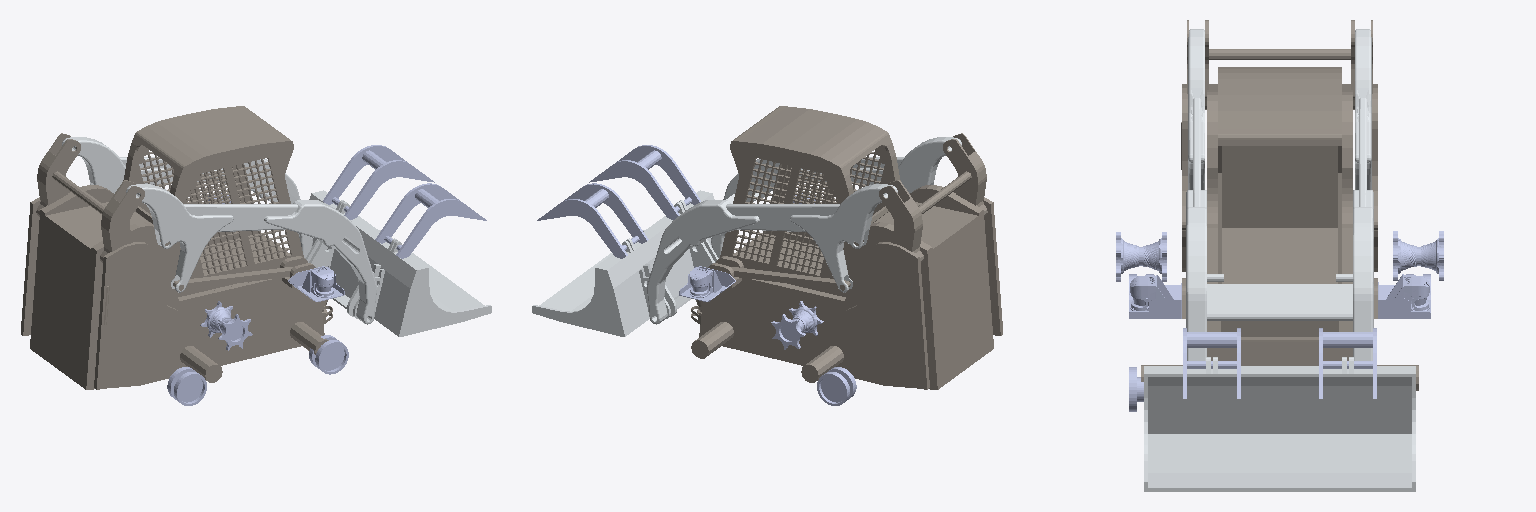
--- What the picture shows (computed from the rendered views, not written in the file) ---
The picture shows the robot from 3 angles, left to right: view 1: azimuth 30°, elevation 25°; view 2: azimuth 150°, elevation 25°; view 3: azimuth 270°, elevation 25°; orthographic projection.
Model Sahar with 18 links and 17 joints (5 revolute, 6 continuous, 6 fixed), rooted at body, posed every joint at zero.
Links seen in each view (by area): view 1: body, cabin, main_arm, loader, brackets, base_arm, right_sick_link, right_wheel, back_right_boggie, supporter, front_right_boggie; view 2: body, cabin, main_arm, loader, brackets, base_arm, left_sick_link, left_wheel, back_left_boggie, supporter; view 3: loader, body, main_arm, cabin, brackets, base_arm, left_sick_link, right_sick_link, right_wheel, left_wheel.
Link boxes in pixels (x1=…): body: x1=21, y1=185, x2=328, y2=389; cabin: x1=123, y1=106, x2=303, y2=297; main_arm: x1=62, y1=137, x2=376, y2=324; loader: x1=305, y1=190, x2=491, y2=336; brackets: x1=323, y1=145, x2=486, y2=258; base_arm: x1=36, y1=133, x2=144, y2=262; right_sick_link: x1=288, y1=266, x2=344, y2=301; right_wheel: x1=200, y1=301, x2=252, y2=350; back_right_boggie: x1=167, y1=367, x2=206, y2=405; supporter: x1=173, y1=267, x2=292, y2=290; front_right_boggie: x1=309, y1=335, x2=348, y2=374; body: x1=691, y1=185, x2=1002, y2=389; cabin: x1=720, y1=106, x2=900, y2=297; main_arm: x1=647, y1=137, x2=961, y2=324; loader: x1=532, y1=190, x2=718, y2=336; brackets: x1=537, y1=145, x2=700, y2=258; base_arm: x1=879, y1=133, x2=987, y2=262; left_sick_link: x1=679, y1=266, x2=735, y2=301; left_wheel: x1=771, y1=301, x2=823, y2=349; back_left_boggie: x1=817, y1=367, x2=856, y2=405; supporter: x1=731, y1=267, x2=850, y2=290; loader: x1=1144, y1=357, x2=1415, y2=491; body: x1=1141, y1=84, x2=1418, y2=390; main_arm: x1=1186, y1=29, x2=1373, y2=360; cabin: x1=1218, y1=67, x2=1341, y2=283; brackets: x1=1183, y1=328, x2=1376, y2=398; base_arm: x1=1187, y1=20, x2=1372, y2=109; left_sick_link: x1=1378, y1=274, x2=1430, y2=318; right_sick_link: x1=1129, y1=275, x2=1181, y2=318; right_wheel: x1=1116, y1=232, x2=1166, y2=281; left_wheel: x1=1393, y1=231, x2=1443, y2=280.
Bounding box of the posed robot: 3.57 × 2 × 1.87 m (x, y, z).
16 mesh visuals loaded from 18 distinct referenced files (16 binary STL); not drawn: 2 (reference not matched to a file when rendering).

The robot description file, URDF, robot "Sahar":
<?xml version="1.0"?>
<robot
  name="Sahar">
  <link
    name="body">
    <inertial>
      <origin
        xyz="-0.890714078986241 0.000176354230843794 0.525609535873677"
        rpy="0 0 0" />
      <mass
        value="2112.2632057713" />
      <inertia
        ixx="330.451427275626"
        ixy="0.1258707518716585"
        ixz="-85.8115001993615"
        iyy="750.047261721269"
        iyz="-0.001202697501709275"
        izz="817.534535636717" />
    </inertial>
    <visual>
      <origin
        xyz="0 0 0"
        rpy="0 0 0" />
      <geometry>
        <mesh
          filename="package://bobcat/meshes/body.STL" />
      </geometry>
      <material
        name="">
        <color
          rgba="0.647058823529412 0.619607843137255 0.588235294117647 0.5" />
      </material>
    </visual>
    <collision>
      <origin
        xyz="0 0 0"
        rpy="0 0 0" />
      <geometry>
        <mesh
          filename="package://bobcat/meshes/body.STL" />
      </geometry>
    </collision>
  </link>

  <link
    name="base_arm">
    <inertial>
      <origin
        xyz="0.066509 1.9771E-12 0.25686"
        rpy="0 0 0" />
      <mass
        value="194.91" />
      <inertia
        ixx="50.76"
        ixy="-2.9264E-11"
        ixz="0.66798"
        iyy="4.8017"
        iyz="7.0403E-12"
        izz="47.388" />
    </inertial>
    <visual>
      <origin
        xyz="0 0 0"
        rpy="0 0 0" />
      <geometry>
        <mesh
          filename="package://bobcat/meshes/base_arm.STL" />
      </geometry>
      <material
        name="">
        <color
          rgba="0.64706 0.61961 0.58824 1" />
      </material>
    </visual>
    <collision>
      <origin
        xyz="0 0 0"
        rpy="0 0 0" />
      <geometry>
        <mesh
          filename="package://bobcat/meshes/base_arm.STL" />
      </geometry>
    </collision>
  </link>
  <joint
    name="base_arm_joint"
    type="revolute">
    <origin
      xyz="-1.9776 0 1.1773"
      rpy="0 2.1164E-16 0" />
    <parent
      link="body" />
    <child
      link="base_arm" />
    <axis
      xyz="0 1 0" />
    <limit
      lower="-1.57"
      upper="1.57"
      effort="1000000"
      velocity="100" />
  </joint>
  <link
    name="main_arm">
    <inertial>
      <origin
        xyz="1.1865 -4.0206E-07 -0.60466"
        rpy="0 0 0" />
      <mass
        value="369.05" />
      <inertia
        ixx="133.74"
        ixy="0.00012791"
        ixz="-68.753"
        iyy="216.24"
        iyz="-4.6593E-05"
        izz="268.55" />
    </inertial>
    <visual>
      <origin
        xyz="0 0 0"
        rpy="0 0 0" />
      <geometry>
        <mesh
          filename="package://bobcat/meshes/main_arm.STL" />
      </geometry>
      <material
        name="">
        <color
          rgba="0.89412 0.91373 0.92941 1" />
      </material>
    </visual>
    <collision>
      <origin
        xyz="0 0 0"
        rpy="0 0 0" />
      <geometry>
        <mesh
          filename="package://bobcat/meshes/main_arm.STL" />
      </geometry>
    </collision>
  </link>
  <joint
    name="main_arm_joint"
    type="revolute">
    <origin
      xyz="0.22304 0 0.5262"
      rpy="0 -2.1164E-16 0" />
    <parent
      link="base_arm" />
    <child
      link="main_arm" />
    <axis
      xyz="0 1 0" />
    <limit
      lower="-1.57"
      upper="1.57"
      effort="1000000"
      velocity="100" />
  </joint>
  <link
    name="supporter">
    <inertial>
      <origin
        xyz="0.51341 -4.9085E-16 -0.060486"
        rpy="0 0 0" />
      <mass
        value="65.29" />
      <inertia
        ixx="16.898"
        ixy="-2.3004E-13"
        ixz="-0.76501"
        iyy="6.6127"
        iyz="-2.4072E-13"
        izz="23.301" />
    </inertial>
    <visual>
      <origin
        xyz="0 0 0"
        rpy="0 0 0" />
      <geometry>
        <mesh
          filename="package://bobcat/meshes/supporter.STL" />
      </geometry>
      <material
        name="">
        <color
          rgba="0.64706 0.61961 0.58824 1" />
      </material>
    </visual>
    <collision>
      <origin
        xyz="0 0 0"
        rpy="0 0 0" />
      <geometry>
        <mesh
          filename="package://bobcat/meshes/supporter.STL" />
      </geometry>
    </collision>
  </link>
  <joint
    name="supporter_joint"
    type="revolute">
    <origin
      xyz="0.39771 0 -0.89486"
      rpy="0 8.0491E-16 0" />
    <parent
      link="main_arm" />
    <child
      link="supporter" />
    <axis
      xyz="0 1 0" />
    <limit
      lower="-0.2"
      upper="1.5"
      effort="1000000"
      velocity="100" />
  </joint>

  <link
    name="loader">
    <inertial>
      <origin
        xyz="0.37894 2.192E-15 0.067409"
        rpy="0 0 0" />
      <mass
        value="98.03" />
      <inertia
        ixx="29.346"
        ixy="0"
        ixz="-1.55"
        iyy="9.25"
        iyz="0"
        izz="32.05" />
    </inertial>
    <visual>
      <origin
        xyz="0 0 0"
        rpy="0 0 0" />
      <geometry>
        <mesh
          filename="package://bobcat/meshes/loader.STL" />
      </geometry>
      <material
        name="">
        <color
          rgba="0.89412 0.91373 0.92941 1" />
      </material>
    </visual>
    <collision>
      <origin
        xyz="0 0 0"
        rpy="0 0 0" />
      <geometry>
        <mesh
          filename="package://bobcat/meshes/loader.STL" />
      </geometry>
    </collision>
  </link>
  <joint
    name="loader_joint"
    type="revolute">
    <origin
      xyz="2.0984 0 -1.557"
      rpy="0 2.5362E-15 0" />
    <parent
      link="main_arm" />
    <child
      link="loader" />
    <axis
      xyz="0 1 0" />
    <limit
      lower="0"
      upper="1.57"
      effort="1000000"
      velocity="100" />
  </joint>
  <link
    name="brackets">
    <inertial>
      <origin
        xyz="0.14213 -1.579E-16 0.33109"
        rpy="0 0 0" />
      <mass
        value="12.857" />
      <inertia
        ixx="2.9339"
        ixy="-2.9653E-16"
        ixz="0.23718"
        iyy="0.67251"
        iyz="3.0656E-16"
        izz="2.738" />
    </inertial>
    <visual>
      <origin
        xyz="0 0 0"
        rpy="0 0 0" />
      <geometry>
        <mesh
          filename="package://bobcat/meshes/brackets.STL" />
      </geometry>
      <material
        name="">
        <color
          rgba="0.79216 0.81961 0.93333 1" />
      </material>
    </visual>
    <collision>
      <origin
        xyz="0 0 0"
        rpy="0 0 0" />
      <geometry>
        <mesh
          filename="package://bobcat/meshes/brackets.STL" />
      </geometry>
    </collision>
  </link>
  <joint
    name="brackets_joint"
    type="revolute">
    <origin
      xyz="0.33833 0 0.49449"
      rpy="0 0 0" />
    <parent
      link="loader" />
    <child
      link="brackets" />
    <axis
      xyz="0 1 0" />
    <limit
      lower="0"
      upper="1"
      effort="1000000"
      velocity="1000000" />
  </joint>

<link
    name="cabin">
    <inertial>
      <origin
        xyz="-0.70338 -5.738E-08 0.72817"
        rpy="0 0 0" />
      <mass
        value="496.33" />
      <inertia
        ixx="138.34"
        ixy="-1.1017E-06"
        ixz="8.4609"
        iyy="150.8"
        iyz="-2.3341E-06"
        izz="117.01" />
    </inertial>
    <visual>
      <origin
        xyz="0 0 0"
        rpy="0 0 0" />
      <geometry>
        <mesh
          filename="package://bobcat/meshes/cabin.STL" />
      </geometry>
      <material
        name="">
        <color
          rgba="0.64706 0.61961 0.58824 1" />
      </material>
    </visual>
    <collision>
      <origin
        xyz="0 0 0"
        rpy="0 0 0" />
      <geometry>
        <mesh
          filename="package://bobcat/meshes/cabin.STL" />
      </geometry>
    </collision>
  </link>
  <joint
    name="cabin_joint"
    type="fixed">
    <origin
      xyz="-0.11317 0 0.61042"
      rpy="0 8.0491E-16 0" />
    <parent
      link="body" />
    <child
      link="cabin" />
    <axis
      xyz="0 1 0" />
  </joint>
  <link
    name="Ibeo_link">
    <inertial>
      <origin
        xyz="-0.50455 -0.03223 -1.3338"
        rpy="0 0 0" />
      <mass
        value="10.460" />
      <inertia
        ixx="8.1287"
        ixy="0"
        ixz="0.55289"
        iyy="8.9548"
        iyz="0"
        izz="6.4192" />
    </inertial>
    <visual>
      <origin
        xyz="0 0 0"
        rpy="0 0 0" />
      <geometry>
        <mesh
          filename="package://bobcat/meshes/Ibeo.STL" />
      </geometry>
      <material
        name="">
        <color
          rgba="1 1 1 1" />
      </material>
    </visual>
    <collision>
      <origin
        xyz="0 0 0"
        rpy="0 0 0" />
      <geometry>
        <mesh
          filename="package://bobcat/meshes/Ibeo_lite.stl" />
      </geometry>
    </collision>
  </link>
  <joint
    name="Ibeo_joint"
    type="fixed">
    <origin
      xyz="-0.18258 0.03227 1.2493"
      rpy="1.570796327 -5.9328E-16 1.570796327" />
    <parent
      link="cabin" />
    <child
      link="Ibeo_link" />
    <axis
      xyz="0 0 0" />
  </joint>
  <link
    name="left_sick_link">
    <inertial>
      <origin
        xyz="-0.89565 0.58058 -0.24712"
        rpy="0 0 0" />
      <mass
        value="10.642" />
      <inertia
        ixx="5.5107"
        ixy="-0.00022597"
        ixz="0.000019765"
        iyy="4.5364"
        iyz="0.67063"
        izz="6.5674" />
    </inertial>
    <visual>
      <origin
        xyz="0 0 0"
        rpy="0 0 0" />
      <geometry>
        <mesh
          filename="package://bobcat/meshes/left_sick.STL" />
      </geometry>
      <material
        name="">
        <color
          rgba="0.79216 0.81961 0.93333 1" />
      </material>
    </visual>
    <collision>
      <origin
        xyz="0 0 0"
        rpy="0 0 0" />
      <geometry>
        <mesh
          filename="package://bobcat/meshes/left_sick_lite.stl" />
      </geometry>
    </collision>
  </link>
  <joint
    name="left_sick_joint"
    type="fixed">
    <origin
      xyz="-0.21801 0.89557 0.66494"
      rpy="1.5708 0 1.5708" />
    <parent
      link="body" />
    <child
      link="left_sick_link" />
    <axis
      xyz="0 -1 0" />
  </joint>
  <link
    name="right_sick_link">
    <inertial>
      <origin
        xyz="-0.89568 -0.58119 -0.24712"
        rpy="0 0 0" />
      <mass
        value="10.642" />
      <inertia
        ixx="5.5107"
        ixy="-0.00022597"
        ixz="-0.000019765"
        iyy="4.5364"
        iyz="-0.67063"
        izz="6.5674" />
    </inertial>
    <visual>
      <origin
        xyz="0 0 0"
        rpy="0 0 0" />
      <geometry>
        <mesh
          filename="package://bobcat/meshes/right_sick.STL" />
      </geometry>
      <material
        name="">
        <color
          rgba="0.79216 0.81961 0.93333 1" />
      </material>
    </visual>
    <collision>
      <origin
        xyz="0 0 0"
        rpy="0 0 0" />
      <geometry>
        <mesh
          filename="package://bobcat/meshes/right_sick_lite.stl" />
      </geometry>
    </collision>
  </link>
  <joint
    name="right_sick_joint"
    type="fixed">
    <origin
      xyz="-0.2174 -0.89576 0.66494"
      rpy="1.5708 0 1.5708" />
    <parent
      link="body" />
    <child
      link="right_sick_link" />
    <axis
      xyz="0 -1 0" />
  </joint>
  <link
    name="front_sick_link">
    <inertial>
      <origin
        xyz="-0.89885 0.00019572 0.43638"
        rpy="0 0 0" />
      <mass
        value="4.5223" />
      <inertia
        ixx="0.77018"
        ixy="0.00031619"
        ixz="-0.20002"
        iyy="1.747"
        iyz="-0.0000281"
        izz="1.9059" />
    </inertial>
    <visual>
      <origin
        xyz="0 0 0"
        rpy="0 0 0" />
      <geometry>
        <mesh
          filename="package://bobcat/meshes/front_sick.STL" />
      </geometry>
      <material
        name="">
        <color
          rgba="0.64706 0.61961 0.58824 1" />
      </material>
    </visual>
    <collision>
      <origin
        xyz="0 0 0"
        rpy="0 0 0" />
      <geometry>
        <mesh
          filename="package://bobcat/meshes/front_sick_lite.stl" />
      </geometry>
    </collision>
  </link>
  <joint
    name="front_sick_joint"
    type="fixed">
    <origin
      xyz="0.26113 0 0.048493"
      rpy="1.5708 0 1.5708" />
    <parent
      link="body" />
    <child
      link="front_sick_link" />
    <axis
      xyz="0 1 0" />
  </joint>
  <link
    name="supporter_hinge">
    <inertial>
      <origin
        xyz="-6.2676E-16 -2.2204E-16 1.1102E-16"
        rpy="0 0 0" />
      <mass
        value="1.6828" />
      <inertia
        ixx="0.00017338"
        ixy="-6.163E-33"
        ixz="-1.9205E-35"
        iyy="0.42748"
        iyz="6.6217E-37"
        izz="0.42748" />
    </inertial>
    <visual>
      <origin
        xyz="0 0 0"
        rpy="0 0 0" />
      <geometry>
        <mesh
          filename="package://bobcat/meshes/supporter_hinge.STL" />
      </geometry>
      <material
        name="">
        <color
          rgba="0.64706 0.61961 0.58824 1" />
      </material>
    </visual>
    <collision>
      <origin
        xyz="0 0 0"
        rpy="0 0 0" />
      <geometry>
        <mesh
          filename="package://bobcat/meshes/supporter_hinge.STL" />
      </geometry>
    </collision>
  </link>
  <joint
    name="supporter_hinge_joint"
    type="fixed">
    <origin
      xyz="-0.31547 0 0.68593"
      rpy="1.5708 0 1.5708" />
    <parent
      link="body" />
    <child
      link="supporter_hinge" />
    <axis
      xyz="1 0 0" />
  </joint>


<!-- add by Or-->



<link
    name="right_wheel">
    <inertial>
      <origin
        xyz="-0.725 0 0"
        rpy="0 0 0" />
      <mass
        value="5.4973106115847" />
      <inertia
        ixx="0.0331571866222433"
        ixy="4.74591956306214E-11"
        ixz="-7.11777670092528E-12"
        iyy="0.0750084493873789"
        iyz="-3.13569619781006E-12"
        izz="0.0750084493853636" />
    </inertial>
    <visual>
      <origin
        xyz="0 0 0"
        rpy="0 0 0" />
      <geometry>
        <mesh
          filename="package://bobcat_gazebo/meshes_bobcat_with_boggies/right_wheel.STL" />
      </geometry>
      <material
        name="">
        <color
          rgba="0.792156862745098 0.819607843137255 0.933333333333333 1" />
      </material>
    </visual>


    <collision>
      <origin
        xyz="-0.15 0 0"
        rpy="1.5708 1.5708 0" />
      <geometry>
        <box size="0.15 0.3 0.15"/> 
         </geometry>
    </collision>

  <collision>
      <origin
        xyz="-0.15 0 0"
        rpy="0 0.8 1.5708" />
      <geometry>
        <box size="0.15 0.3 0.15"/> 
         </geometry>
    </collision>

    <collision>
      <origin
        xyz="0.091 0 0"
        rpy="0 1.5708 0" />
      <geometry>
        <cylinder length="0.1" radius="0.3" 

          />

      </geometry>
    </collision>

    <collision>
      <origin
        xyz="-0.35 0 0"
        rpy="0 1.5708 0" />
      <geometry>
        <cylinder length="0.02" radius="0.3" 
          />

      </geometry>
    </collision>

  </link>
  <joint
    name="right_wheel_joint"
    type="continuous">
    <origin
      xyz="-1.109 -1 0.535"
      rpy="1.5708 0 -1.5708" />
    <parent
      link="body" />
    <child
      link="right_wheel" />
    <axis
      xyz="-1 0 0" />

  </joint>
  


<!--  -->

<link
    name="front_right_boggie">
    <inertial>
      <origin
        xyz="-0.072989545637314 0 0"
        rpy="0 0 0" />
      <mass
        value="3.90657046473891" />
      <inertia
        ixx="0.0402750730112348"
        ixy="-1.95495404144972E-19"
        ixz="-3.8871286104849E-19"
        iyy="0.0265900500882693"
        iyz="6.78191046434944E-18"
        izz="0.0265900500882693" />
    </inertial>
    <visual>
      <origin
        xyz="0 0 0"
        rpy="0 0 0" />
      <geometry>
        <mesh
          filename="package://bobcat_gazebo/meshes_bobcat_with_boggies/front_right_boggie.STL" />
      </geometry>
      <material
        name="">
        <color
          rgba="0.792156862745098 0.819607843137255 0.933333333333333 1" />
      </material>
    </visual>


    <collision>
      <origin
        xyz="-0.1 0 0"
        rpy="0 1.5708 0" />
      <geometry>
        <cylinder length="0.5" radius="0.14" 
          />
      </geometry>
    </collision>

    <collision>
      <origin
        xyz="0.12 0 0"
        rpy="0 1.5708 0" />
      <geometry>
        <cylinder length="0.02" radius="0.17" 
          />
      </geometry>
    </collision>

    <collision>
      <origin
        xyz="-0.265 0 0"
        rpy="0 1.5708 0" />
      <geometry>
        <cylinder length="0.02" radius="0.17" 
          />

      </geometry>
    </collision>

  </link>
  <joint
    name="front_right_boggie_joint"
    type="continuous">
    <origin
      xyz="-0.183 -0.92 0.069"
      rpy="1.5708 0 -1.5708" />
    <parent
      link="body" />
    <child
      link="front_right_boggie" />
    <axis
      xyz="-1 0 0" />

  </joint>
  <link
    name="back_right_boggie">
    <inertial>
      <origin
        xyz="-0.0729895456373141 0 0"
        rpy="0 0 0" />
      <mass
        value="3.90657046473891" />
      <inertia
        ixx="0.0402750730112348"
        ixy="-6.18564037846812E-22"
        ixz="4.99160466967745E-18"
        iyy="0.0265900500882693"
        iyz="3.6043016557644E-20"
        izz="0.0265900500882693" />
    </inertial>
    <visual>
      <origin
        xyz="0 0 0"
        rpy="0 0 0" />
      <geometry>
        <mesh
          filename="package://bobcat_gazebo/meshes_bobcat_with_boggies/back_right_boggie.STL" />
      </geometry>
      <material
        name="">
        <color
          rgba="0.792156862745098 0.819607843137255 0.933333333333333 1" />
      </material>
    </visual>


    <collision>
      <origin
        xyz="-0.1 0 0"
        rpy="0 1.5708 0" />
      <geometry>
        <cylinder length="0.5" radius="0.14" 
          />
      </geometry>
    </collision>

     <collision>
      <origin
        xyz="0.12 0 0"
        rpy="0 1.5708 0" />
      <geometry>
        <cylinder length="0.02" radius="0.17" 
          />
      </geometry>
    </collision>

    <collision>
      <origin
        xyz="-0.265 0 0"
        rpy="0 1.5708 0" />
      <geometry>
        <cylinder length="0.02" radius="0.17" 
          />

      </geometry>
    </collision>

  </link>
  <joint
    name="back_right_boggie_joint"
    type="continuous">
    <origin
      xyz="-1.47 -0.92 0.093"
      rpy="1.5708 0 -1.5708" />
    <parent
      link="body" />
    <child
      link="back_right_boggie" />
    <axis
      xyz="-1 0 0" />

  </joint>
<!-- end of right side-->

<!-- begining of left side-->

 <link
    name="left_wheel">
    <inertial>
      <origin
        xyz="0.142856176942976 -3.81439602126221E-11 5.83338988224824E-10"
        rpy="0 0 0" />
      <mass
        value="5.49731061158471" />
      <inertia
        ixx="0.0331571866215895"
        ixy="-3.76042672089463E-11"
        ixz="3.34298670147488E-11"
        iyy="0.0750084493824547"
        iyz="4.71480493535736E-13"
        izz="0.0750084493896341" />
    </inertial>
    <visual>
      <origin
        xyz="0 0 0"
        rpy="0 0 0" />
      <geometry>
        <mesh
          filename="package://bobcat_gazebo/meshes_bobcat_with_boggies/left_wheel.STL" />
      </geometry>
      <material
        name="">
        <color
          rgba="0.792156862745098 0.819607843137255 0.933333333333333 1" />
      </material>
    </visual>



   <collision>
      <origin
        xyz="0.15 0 0"
        rpy="1.5708 1.5708 0" />
      <geometry>
        <box size="0.15 0.3 0.15"/> 
         </geometry>
    </collision>

  <collision>
      <origin
        xyz="0.15 0 0"
        rpy="0 0.8 1.5708" />
      <geometry>
        <box size="0.15 0.3 0.15"/> 
         </geometry>
    </collision>

    <collision>
      <origin
        xyz="-0.091 0 0"
        rpy="0 1.5708 0" />
      <geometry>
        <cylinder length="0.1" radius="0.3" 
          />

      </geometry>
    </collision>

    <collision>
      <origin
        xyz="0.35 0 0"
        rpy="0 1.5708 0" />
      <geometry>
        <cylinder length="0.02" radius="0.3" 
          />

      </geometry>
    </collision>

  </link>
  <joint
    name="left_wheel_joint"
    type="continuous">
    <origin
      xyz="-1.109 1 0.535"
      rpy="-1.1939 3.4487E-16 -1.5708" />
    <parent
      link="body" />
    <child
      link="left_wheel" />
    <axis
      xyz="-1 0 0" />

  </joint>

<!--  -->

<link
    name="front_left_boggie">
    <inertial>
      <origin
        xyz="-0.072989545637314 2.22044604925031E-16 0"
        rpy="0 0 0" />
      <mass
        value="3.90657046473891" />
      <inertia
        ixx="0.0402750730112348"
        ixy="-7.48894709617106E-18"
        ixz="-5.75771465104378E-19"
        iyy="0.0265900500882693"
        iyz="1.19262238973405E-18"
        izz="0.0265900500882693" />
    </inertial>
    <visual>
      <origin
        xyz="0 0 0"
        rpy="0 0 0" />
      <geometry>
        <mesh
          filename="package://bobcat_gazebo/meshes_bobcat_with_boggies/front_left_boggie.STL" />
      </geometry>
      <material
        name="">
        <color
          rgba="0.792156862745098 0.819607843137255 0.933333333333333 1" />
      </material>
    </visual>

    <collision>
      <origin
        xyz="0.1 0 0"
        rpy="0 1.5708 0" />
      <geometry>
        <cylinder length="0.5" radius="0.14" 
          />
      </geometry>
    </collision>


    <collision>
      <origin
        xyz="0.12 0 0"
        rpy="0 1.5708 0" />
      <geometry>
        <cylinder length="0.02" radius="0.17" 
          />
      </geometry>
    </collision>

    <collision>
      <origin
        xyz="-0.265 0 0"
        rpy="0 1.5708 0" />
      <geometry>
        <cylinder length="0.02" radius="0.17" 
          />

      </geometry>
    </collision>


  </link>
  <joint
    name="front_left_boggie_joint"
    type="continuous">
    <origin
     xyz="-0.183 0.92 0.069"
      rpy="-0.022723 -2.5348E-29 1.5708" />
    <parent
      link="body" />
    <child
      link="front_left_boggie" />
    <axis
      xyz="1 0 0" />

  </joint>
  <link
    name="back_left_boggie">
    <inertial>
      <origin
        xyz="-0.072989545637314 0 0"
        rpy="0 0 0" />
      <mass
        value="3.90657046473891" />
      <inertia
        ixx="0.0402750730112348"
        ixy="8.65586547893248E-18"
        ixz="-2.0885755126839E-19"
        iyy="0.0265900500882693"
        iyz="1.30104260698261E-18"
        izz="0.0265900500882693" />
    </inertial>
    <visual>
      <origin
        xyz="0 0 0"
        rpy="0 0 0" />
      <geometry>
        <mesh
          filename="package://bobcat_gazebo/meshes_bobcat_with_boggies/back_left_boggie.STL" />
      </geometry>
      <material
        name="">
        <color
          rgba="0.792156862745098 0.819607843137255 0.933333333333333 1" />
      </material>
    </visual>


    <collision>
      <origin
        xyz="0.1 0 0"
        rpy="0 1.5708 0" />
      <geometry>
        <cylinder length="0.5" radius="0.14" 
          />
      </geometry>
    </collision>

    <collision>
      <origin
        xyz="0.12 0 0"
        rpy="0 1.5708 0" />
      <geometry>
        <cylinder length="0.02" radius="0.17" 
          />
      </geometry>
    </collision>

    <collision>
      <origin
        xyz="-0.265 0 0"
        rpy="0 1.5708 0" />
      <geometry>
        <cylinder length="0.02" radius="0.17" 
          />

      </geometry>
    </collision>

  </link>
  <joint
    name="back_left_boggie_joint"
    type="continuous">
    <origin
      xyz="-1.47 0.92 0.093"
      rpy="-0.022723 -2.5348E-29 1.5708" />
    <parent
      link="body" />
    <child
      link="back_left_boggie" />
    <axis
      xyz="-1 0 0" />

  </joint>

<!-- end of edd by or-->



 <!-- Transmissions for ROS Control -->
  <transmission name="tran1">
    <type>transmission_interface/SimpleTransmission</type>
    <joint name="right_wheel_joint">
      <hardwareInterface>EffortJointInterface</hardwareInterface>
    </joint>
    <actuator name="motor1">
      <mechanicalReduction>1</mechanicalReduction>
    </actuator>
  </transmission>

  <transmission name="tran2">
    <type>transmission_interface/SimpleTransmission</type>
    <joint name="left_wheel_joint">
      <hardwareInterface>EffortJointInterface</hardwareInterface>
    </joint>
    <actuator name="motor2">
      <mechanicalReduction>1</mechanicalReduction>
    </actuator>
  </transmission>

  <transmission name="tran5">
    <type>transmission_interface/SimpleTransmission</type>
    <joint name="base_arm_joint">
      <hardwareInterface>EffortJointInterface</hardwareInterface>
    </joint>
    <actuator name="motor5">
      <mechanicalReduction>1</mechanicalReduction>
    </actuator>
  </transmission>

  <transmission name="tran6">
    <type>transmission_interface/SimpleTransmission</type>
    <joint name="main_arm_joint">
      <hardwareInterface>EffortJointInterface</hardwareInterface>
    </joint>
    <actuator name="motor6">
      <mechanicalReduction>1</mechanicalReduction>
    </actuator>
  </transmission>

  <transmission name="tran8">
    <type>transmission_interface/SimpleTransmission</type>
    <joint name="supporter_joint">
      <hardwareInterface>EffortJointInterface</hardwareInterface>
    </joint>
    <actuator name="motor8">
      <mechanicalReduction>1</mechanicalReduction>
    </actuator>
  </transmission>

  <transmission name="tran10">
    <type>transmission_interface/SimpleTransmission</type>
    <joint name="loader_joint">
      <hardwareInterface>EffortJointInterface</hardwareInterface>
    </joint>
    <actuator name="motor10">
      <mechanicalReduction>1</mechanicalReduction>
    </actuator>
  </transmission>

  <transmission name="tran12">
    <type>transmission_interface/SimpleTransmission</type>
    <joint name="brackets_joint">
      <hardwareInterface>EffortJointInterface</hardwareInterface>
    </joint>
    <actuator name="motor12">
      <mechanicalReduction>1</mechanicalReduction>
    </actuator>
  </transmission>

  <!-- ros_control plugin -->
  <gazebo>
    <plugin name="gazebo_ros_control" filename="libgazebo_ros_control.so">
      <robotNamespace>/Sahar</robotNamespace>
    </plugin>
  </gazebo>
  <gazebo reference="body">
    <mu1>1</mu1>
    <mu2>1</mu2>
    <selfCollide>true</selfCollide>
    <material>Gazebo/Wood</material>
  </gazebo>

  <gazebo reference="right_wheel">
    <mu1>1000000</mu1>
    <mu2>1000000</mu2>
    <selfCollide>true</selfCollide>
    <material>Gazebo/Grey</material>
  </gazebo>

  <gazebo reference="left_wheel">
    <mu1>1000000</mu1>
    <mu2>1000000</mu2>
    <selfCollide>true</selfCollide>
    <material>Gazebo/Grey</material>
  </gazebo>


  <gazebo reference="base_arm">
    <material>Gazebo/Grey</material>
  </gazebo>
  <gazebo reference="main_arm">
    <material>Gazebo/PaintedWall</material>
  </gazebo>

  <gazebo reference="supporter">
    <mu1>1</mu1>
    <mu2>1</mu2>
    <selfCollide>true</selfCollide>
    <material>Gazebo/GreyTransparent</material>
  </gazebo>
  <gazebo reference="front_cylinder">
    <material>Gazebo/BlueTransparent</material>
  </gazebo>
  <gazebo reference="loader">
    <mu1>1</mu1>
    <mu2>1</mu2>
    <selfCollide>true</selfCollide>
    <material>Gazebo/Gold</material>
  </gazebo>
  <gazebo reference="front_shaft">
    <material>Gazebo/Black</material>
  </gazebo>

  <gazebo reference="brackets">
    <mu1>1</mu1>
    <mu2>1</mu2>
    <selfCollide>true</selfCollide>
    <material>Gazebo/Grey</material>
  </gazebo>
  <gazebo reference="Ibeo">
    <material>Gazebo/Grey</material>
  </gazebo>
  <gazebo reference="left_sick">
    <material>Gazebo/Grey</material>
  </gazebo>
  <gazebo reference="right_sick">
    <material>Gazebo/Grey</material>
  </gazebo>
  <gazebo reference="front_sick">
    <material>Gazebo/Grey</material>
  </gazebo>

</robot>
